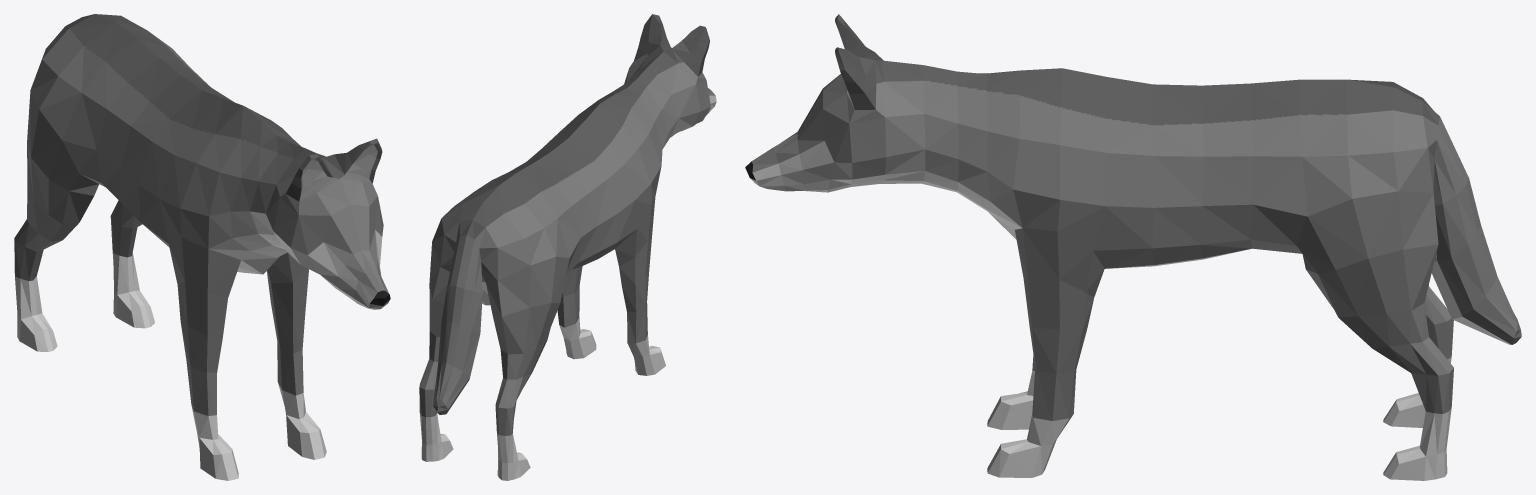
File: wolf.fbx
3 views of the same model, side by side, from view 1: azimuth 30°, elevation 25°; view 2: azimuth 150°, elevation 25°; view 3: azimuth 270°, elevation 25° (orthographic). The views are drawn at different scales.
Visible parts, largest first — view 1: wolf; view 2: wolf; view 3: wolf.
Part boxes in pixels (bbox=[...]): wolf: bbox=[14, 14, 390, 480]; wolf: bbox=[419, 14, 716, 480]; wolf: bbox=[745, 14, 1521, 480].
Size of the model in its own units: 35.31 by 83.32 by 141.
Materials: 1 (1 with a texture image).
